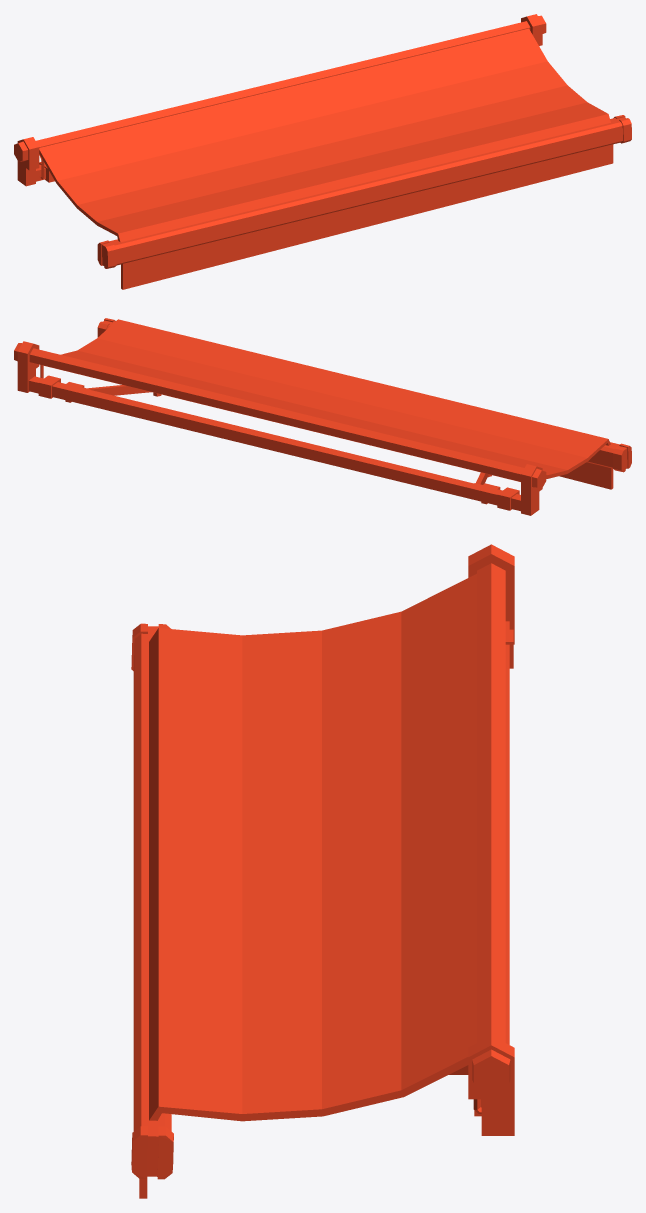
File: SM_Awning_B_City.fbx
3 views of the same model, one above another, from view 1: azimuth 30°, elevation 25°; view 2: azimuth 150°, elevation 25°; view 3: azimuth 270°, elevation 25° (orthographic). The views are drawn at different scales.
Parts seen in each view (by area): view 1: SM_Awning_B_City; view 2: SM_Awning_B_City; view 3: SM_Awning_B_City.
Boxes of the visible parts, x1,y1,x2,y2 form: SM_Awning_B_City: [14, 14, 631, 289]; SM_Awning_B_City: [14, 318, 631, 515]; SM_Awning_B_City: [131, 544, 514, 1198].
Bounding box in the file's own units: 3.48 × 0.5656 × 1.1.
